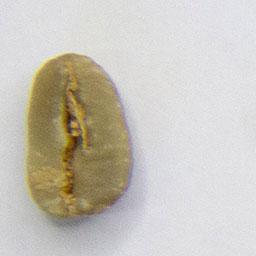longberry: (22, 48, 137, 224)
